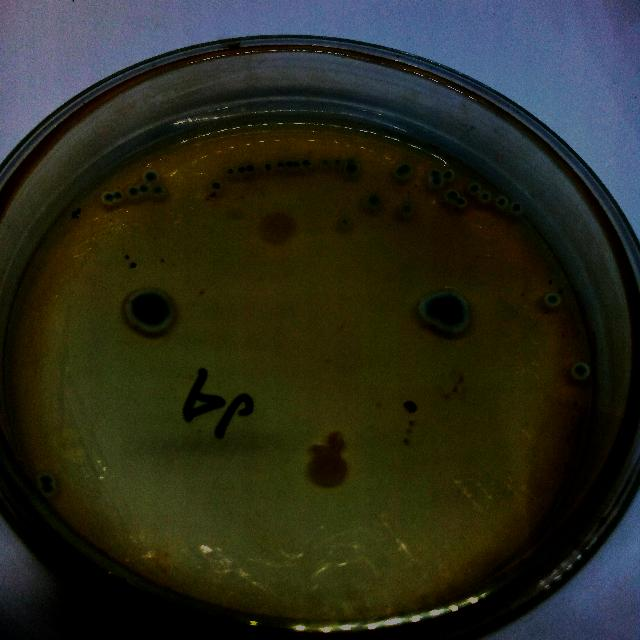colony: (419, 286, 471, 336), (124, 287, 178, 335), (304, 452, 348, 488), (258, 210, 296, 246), (570, 360, 592, 382), (542, 290, 564, 310), (140, 169, 160, 185), (38, 482, 58, 498), (35, 472, 57, 486), (402, 160, 418, 177), (100, 191, 116, 207), (393, 164, 407, 180), (399, 202, 415, 216), (346, 162, 360, 176), (442, 168, 456, 182), (446, 188, 460, 202), (509, 201, 523, 215), (366, 194, 382, 206), (152, 185, 166, 198), (467, 182, 481, 195), (126, 186, 140, 198), (496, 195, 508, 209), (431, 176, 444, 188), (479, 190, 491, 203), (113, 189, 125, 201), (138, 183, 150, 195), (244, 162, 256, 174), (300, 157, 312, 169), (455, 196, 467, 208), (428, 168, 442, 178), (210, 180, 222, 190), (332, 156, 342, 168), (345, 154, 357, 164), (225, 167, 235, 177), (236, 166, 246, 176), (276, 160, 286, 170), (284, 158, 294, 168), (319, 157, 329, 167), (264, 162, 272, 172), (292, 158, 300, 168)
